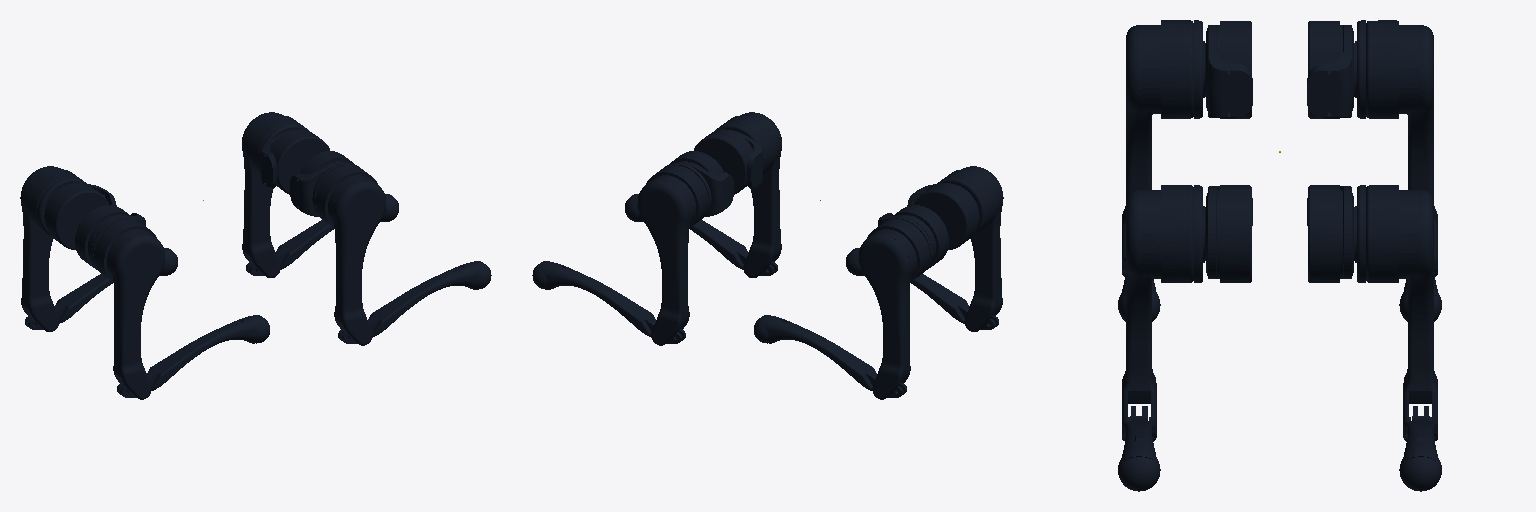
The robot description file, URDF, robot "a1_description":
<?xml version="1.0" ?>
<robot name="a1_description" xmlns:xacro="http://www.ros.org/wiki/xacro">
  <material name="black">
    <color rgba="0.0 0.0 0.0 1.0"/>
  </material>
  <material name="blue">
    <color rgba="0.0 0.0 0.8 1.0"/>
  </material>
  <material name="green">
    <color rgba="0.0 0.8 0.0 1.0"/>
  </material>
  <material name="grey">
    <color rgba="0.2 0.2 0.2 1.0"/>
  </material>
  <material name="silver">
    <color rgba="0.913725490196 0.913725490196 0.847058823529 1.0"/>
  </material>
  <material name="orange">
    <!-- <color rgba="1.0 0.423529411765 0.0392156862745 1.0"/> -->
    <color rgba="0.12 0.15 0.2 1.0"/>
  </material>
  <material name="brown">
    <color rgba="0.870588235294 0.811764705882 0.764705882353 1.0"/>
  </material>
  <material name="red">
    <color rgba="0.8 0.0 0.0 1.0"/>
  </material>
  <material name="white">
    <color rgba="1.0 1.0 1.0 1.0"/>
  </material>
  <link name="base">
    <visual>
      <origin rpy="0 0 0" xyz="0 0 0"/>
      <geometry>
        <box size="0.001 0.001 0.001"/>
      </geometry>
    </visual>
  </link>
  <joint name="floating_base" type="fixed">
    <origin rpy="0 0 0" xyz="0 0 0"/>
    <parent link="base"/>
    <child link="trunk"/>
  </joint>
  <link name="trunk">
    <visual>
      <origin rpy="0 0 0" xyz="0 0 0"/>
      <geometry>
        <mesh filename="../meshes/trunk.dae" scale="1 1 1"/>
      </geometry>
      <material name="orange"/>
    </visual>
    <collision>
      <origin rpy="0 0 0" xyz="0 0 0"/>
      <geometry>
        <box size="0.267 0.194 0.114"/>
      </geometry>
    </collision>
    <inertial>
      <origin rpy="0 0 0" xyz="0.012731 0.002186 0.000515"/>
      <mass value="4.713"/>
      <inertia ixx="0.01683993" ixy="8.3902e-05" ixz="0.000597679" iyy="0.056579028" iyz="2.5134e-05" izz="0.064713601"/>
    </inertial>
  </link>
  <joint name="imu_joint" type="fixed">
    <parent link="trunk"/>
    <child link="imu_link"/>
    <origin rpy="0 0 0" xyz="0 0 0"/>
  </joint>
  <link name="imu_link">
    <inertial>
      <mass value="0.001"/>
      <origin rpy="0 0 0" xyz="0 0 0"/>
      <inertia ixx="0.0001" ixy="0" ixz="0" iyy="0.0001" iyz="0" izz="0.0001"/>
    </inertial>
    <visual>
      <origin rpy="0 0 0" xyz="0 0 0"/>
      <geometry>
        <box size="0.001 0.001 0.001"/>
      </geometry>
      <material name="red"/>
    </visual>
    <!-- The collision box is for the sensor module in the front -->
    <collision>
      <origin rpy="0 0 0" xyz="0.25 0 0"/>
      <geometry>
        <box size=".06 .15 .1"/>
      </geometry>
    </collision>
  </link>
  <joint name="FR_hip_joint" type="revolute">
    <origin rpy="0 0 0" xyz="0.183 -0.047 0"/>
    <parent link="trunk"/>
    <child link="FR_hip"/>
    <axis xyz="1 0 0"/>
    <dynamics damping="0" friction="0"/>
    <limit effort="33.5" lower="-0.802851455917" upper="0.802851455917" velocity="52.4"/>
  </joint>
  <link name="FR_hip">
    <visual>
      <origin rpy="3.14159265359 0 0" xyz="0 0 0"/>
      <geometry>
        <mesh filename="../meshes/hip.dae" scale="1 1 1"/>
      </geometry>
      <material name="orange"/>
    </visual>
    <collision>
      <origin rpy="1.57079632679 0 0" xyz="0 0 0"/>
      <geometry>
        <cylinder length="0.04" radius="0.046"/>
      </geometry>
    </collision>
    <inertial>
      <origin rpy="0 0 0" xyz="-0.003311 -0.000635 3.1e-05"/>
      <mass value="0.696"/>
      <inertia ixx="0.000469246" ixy="9.409e-06" ixz="-3.42e-07" iyy="0.00080749" iyz="4.66e-07" izz="0.000552929"/>
    </inertial>
  </link>
  <joint name="FR_hip_fixed" type="fixed">
    <origin rpy="0 0 0" xyz="0 -0.081 0"/>
    <parent link="FR_hip"/>
    <child link="FR_thigh_shoulder"/>
  </joint>
  <!-- this link is only for collision -->
  <link name="FR_thigh_shoulder">
    <collision>
      <origin rpy="1.57079632679 0 0" xyz="0 0 0"/>
      <geometry>
        <cylinder length="0.032" radius="0.041"/>
      </geometry>
    </collision>
  </link>
  <joint name="FR_thigh_joint" type="revolute">
    <origin rpy="0 0 0" xyz="0 -0.08505 0"/>
    <parent link="FR_hip"/>
    <child link="FR_thigh"/>
    <axis xyz="0 1 0"/>
    <dynamics damping="0" friction="0"/>
    <limit effort="33.5" lower="-1.0471975512" upper="4.18879020479" velocity="28.6"/>
  </joint>
  <link name="FR_thigh">
    <visual>
      <origin rpy="0 0 0" xyz="0 0 0"/>
      <geometry>
        <mesh filename="../meshes/thigh_mirror.dae" scale="1 1 1"/>
      </geometry>
      <material name="orange"/>
    </visual>
    <collision>
      <origin rpy="0 1.57079632679 0" xyz="0 0 -0.1"/>
      <geometry>
        <box size="0.2 0.0245 0.034"/>
      </geometry>
    </collision>
    <inertial>
      <origin rpy="0 0 0" xyz="-0.003237 0.022327 -0.027326"/>
      <mass value="1.013"/>
      <inertia ixx="0.005529065" ixy="-4.825e-06" ixz="0.000343869" iyy="0.005139339" iyz="-2.2448e-05" izz="0.001367788"/>
    </inertial>
  </link>
  <joint name="FR_calf_joint" type="revolute">
    <origin rpy="0 0 0" xyz="0 0 -0.2"/>
    <parent link="FR_thigh"/>
    <child link="FR_calf"/>
    <axis xyz="0 1 0"/>
    <dynamics damping="0" friction="0"/>
    <limit effort="33.5" lower="-2.69653369433" upper="-0.916297857297" velocity="28.6"/>
  </joint>
  <link name="FR_calf">
    <visual>
      <origin rpy="0 0 0" xyz="0 0 0"/>
      <geometry>
        <mesh filename="../meshes/calf.dae" scale="1 1 1"/>
      </geometry>
      <material name="orange"/>
    </visual>
    <collision>
      <origin rpy="0 1.57079632679 0" xyz="0 0 -0.1"/>
      <geometry>
        <box size="0.2 0.016 0.016"/>
      </geometry>
    </collision>
    <inertial>
      <origin rpy="0 0 0" xyz="0.006435 0.0 -0.107388"/>
      <mass value="0.166"/>
      <inertia ixx="0.002997972" ixy="0.0" ixz="-0.000141163" iyy="0.003014022" iyz="0.0" izz="3.2426e-05"/>
    </inertial>
  </link>
  <joint name="FR_foot_fixed" type="fixed" dont_collapse="true">
    <origin rpy="0 0 0" xyz="0 0 -0.2"/>
    <parent link="FR_calf"/>
    <child link="FR_foot"/>
  </joint>
  <link name="FR_foot">
    <visual>
      <origin rpy="0 0 0" xyz="0 0 0"/>
      <geometry>
        <sphere radius="0.01"/>
      </geometry>
      <material name="orange"/>
    </visual>
    <collision>
      <origin rpy="0 0 0" xyz="0 0 0"/>
      <geometry>
        <sphere radius="0.02"/>
      </geometry>
    </collision>
    <inertial>
      <mass value="0.06"/>
      <inertia ixx="9.6e-06" ixy="0.0" ixz="0.0" iyy="9.6e-06" iyz="0.0" izz="9.6e-06"/>
    </inertial>
  </link>
  <joint name="FL_hip_joint" type="revolute">
    <origin rpy="0 0 0" xyz="0.183 0.047 0"/>
    <parent link="trunk"/>
    <child link="FL_hip"/>
    <axis xyz="1 0 0"/>
    <dynamics damping="0" friction="0"/>
    <limit effort="33.5" lower="-0.802851455917" upper="0.802851455917" velocity="52.4"/>
  </joint>
  <link name="FL_hip">
    <visual>
      <origin rpy="0 0 0" xyz="0 0 0"/>
      <geometry>
        <mesh filename="../meshes/hip.dae" scale="1 1 1"/>
      </geometry>
      <material name="orange"/>
    </visual>
    <collision>
      <origin rpy="1.57079632679 0 0" xyz="0 0 0"/>
      <geometry>
        <cylinder length="0.04" radius="0.046"/>
      </geometry>
    </collision>
    <inertial>
      <origin rpy="0 0 0" xyz="-0.003311 0.000635 3.1e-05"/>
      <mass value="0.696"/>
      <inertia ixx="0.000469246" ixy="-9.409e-06" ixz="-3.42e-07" iyy="0.00080749" iyz="-4.66e-07" izz="0.000552929"/>
    </inertial>
  </link>
  <joint name="FL_hip_fixed" type="fixed">
    <origin rpy="0 0 0" xyz="0 0.081 0"/>
    <parent link="FL_hip"/>
    <child link="FL_thigh_shoulder"/>
  </joint>
  <!-- this link is only for collision -->
  <link name="FL_thigh_shoulder">
    <collision>
      <origin rpy="1.57079632679 0 0" xyz="0 0 0"/>
      <geometry>
        <cylinder length="0.032" radius="0.041"/>
      </geometry>
    </collision>
  </link>
  <joint name="FL_thigh_joint" type="revolute">
    <origin rpy="0 0 0" xyz="0 0.08505 0"/>
    <parent link="FL_hip"/>
    <child link="FL_thigh"/>
    <axis xyz="0 1 0"/>
    <dynamics damping="0" friction="0"/>
    <limit effort="33.5" lower="-1.0471975512" upper="4.18879020479" velocity="28.6"/>
  </joint>
  <link name="FL_thigh">
    <visual>
      <origin rpy="0 0 0" xyz="0 0 0"/>
      <geometry>
        <mesh filename="../meshes/thigh.dae" scale="1 1 1"/>
      </geometry>
      <material name="orange"/>
    </visual>
    <collision>
      <origin rpy="0 1.57079632679 0" xyz="0 0 -0.1"/>
      <geometry>
        <box size="0.2 0.0245 0.034"/>
      </geometry>
    </collision>
    <inertial>
      <origin rpy="0 0 0" xyz="-0.003237 -0.022327 -0.027326"/>
      <mass value="1.013"/>
      <inertia ixx="0.005529065" ixy="4.825e-06" ixz="0.000343869" iyy="0.005139339" iyz="2.2448e-05" izz="0.001367788"/>
    </inertial>
  </link>
  <joint name="FL_calf_joint" type="revolute">
    <origin rpy="0 0 0" xyz="0 0 -0.2"/>
    <parent link="FL_thigh"/>
    <child link="FL_calf"/>
    <axis xyz="0 1 0"/>
    <dynamics damping="0" friction="0"/>
    <limit effort="33.5" lower="-2.69653369433" upper="-0.916297857297" velocity="28.6"/>
  </joint>
  <link name="FL_calf">
    <visual>
      <origin rpy="0 0 0" xyz="0 0 0"/>
      <geometry>
        <mesh filename="../meshes/calf.dae" scale="1 1 1"/>
      </geometry>
      <material name="orange"/>
    </visual>
    <collision>
      <origin rpy="0 1.57079632679 0" xyz="0 0 -0.1"/>
      <geometry>
        <box size="0.2 0.016 0.016"/>
      </geometry>
    </collision>
    <inertial>
      <origin rpy="0 0 0" xyz="0.006435 0.0 -0.107388"/>
      <mass value="0.166"/>
      <inertia ixx="0.002997972" ixy="0.0" ixz="-0.000141163" iyy="0.003014022" iyz="0.0" izz="3.2426e-05"/>
    </inertial>
  </link>
  <joint name="FL_foot_fixed" type="fixed" dont_collapse="true">
    <origin rpy="0 0 0" xyz="0 0 -0.2"/>
    <parent link="FL_calf"/>
    <child link="FL_foot"/>
  </joint>
  <link name="FL_foot">
    <visual>
      <origin rpy="0 0 0" xyz="0 0 0"/>
      <geometry>
        <sphere radius="0.01"/>
      </geometry>
      <material name="orange"/>
    </visual>
    <collision>
      <origin rpy="0 0 0" xyz="0 0 0"/>
      <geometry>
        <sphere radius="0.02"/>
      </geometry>
    </collision>
    <inertial>
      <mass value="0.06"/>
      <inertia ixx="9.6e-06" ixy="0.0" ixz="0.0" iyy="9.6e-06" iyz="0.0" izz="9.6e-06"/>
    </inertial>
  </link>
  <joint name="RR_hip_joint" type="revolute">
    <origin rpy="0 0 0" xyz="-0.183 -0.047 0"/>
    <parent link="trunk"/>
    <child link="RR_hip"/>
    <axis xyz="1 0 0"/>
    <dynamics damping="0" friction="0"/>
    <limit effort="33.5" lower="-0.802851455917" upper="0.802851455917" velocity="52.4"/>
  </joint>
  <link name="RR_hip">
    <visual>
      <origin rpy="3.14159265359 3.14159265359 0" xyz="0 0 0"/>
      <geometry>
        <mesh filename="../meshes/hip.dae" scale="1 1 1"/>
      </geometry>
      <material name="orange"/>
    </visual>
    <collision>
      <origin rpy="1.57079632679 0 0" xyz="0 0 0"/>
      <geometry>
        <cylinder length="0.04" radius="0.046"/>
      </geometry>
    </collision>
    <inertial>
      <origin rpy="0 0 0" xyz="0.003311 -0.000635 3.1e-05"/>
      <mass value="0.696"/>
      <inertia ixx="0.000469246" ixy="-9.409e-06" ixz="3.42e-07" iyy="0.00080749" iyz="4.66e-07" izz="0.000552929"/>
    </inertial>
  </link>
  <joint name="RR_hip_fixed" type="fixed">
    <origin rpy="0 0 0" xyz="0 -0.081 0"/>
    <parent link="RR_hip"/>
    <child link="RR_thigh_shoulder"/>
  </joint>
  <!-- this link is only for collision -->
  <link name="RR_thigh_shoulder">
    <collision>
      <origin rpy="1.57079632679 0 0" xyz="0 0 0"/>
      <geometry>
        <cylinder length="0.032" radius="0.041"/>
      </geometry>
    </collision>
  </link>
  <joint name="RR_thigh_joint" type="revolute">
    <origin rpy="0 0 0" xyz="0 -0.08505 0"/>
    <parent link="RR_hip"/>
    <child link="RR_thigh"/>
    <axis xyz="0 1 0"/>
    <dynamics damping="0" friction="0"/>
    <limit effort="33.5" lower="-1.0471975512" upper="4.18879020479" velocity="28.6"/>
  </joint>
  <link name="RR_thigh">
    <visual>
      <origin rpy="0 0 0" xyz="0 0 0"/>
      <geometry>
        <mesh filename="../meshes/thigh_mirror.dae" scale="1 1 1"/>
      </geometry>
      <material name="orange"/>
    </visual>
    <collision>
      <origin rpy="0 1.57079632679 0" xyz="0 0 -0.1"/>
      <geometry>
        <box size="0.2 0.0245 0.034"/>
      </geometry>
    </collision>
    <inertial>
      <origin rpy="0 0 0" xyz="-0.003237 0.022327 -0.027326"/>
      <mass value="1.013"/>
      <inertia ixx="0.005529065" ixy="-4.825e-06" ixz="0.000343869" iyy="0.005139339" iyz="-2.2448e-05" izz="0.001367788"/>
    </inertial>
  </link>
  <joint name="RR_calf_joint" type="revolute">
    <origin rpy="0 0 0" xyz="0 0 -0.2"/>
    <parent link="RR_thigh"/>
    <child link="RR_calf"/>
    <axis xyz="0 1 0"/>
    <dynamics damping="0" friction="0"/>
    <limit effort="33.5" lower="-2.69653369433" upper="-0.916297857297" velocity="28.6"/>
  </joint>
  <link name="RR_calf">
    <visual>
      <origin rpy="0 0 0" xyz="0 0 0"/>
      <geometry>
        <mesh filename="../meshes/calf.dae" scale="1 1 1"/>
      </geometry>
      <material name="orange"/>
    </visual>
    <collision>
      <origin rpy="0 1.57079632679 0" xyz="0 0 -0.1"/>
      <geometry>
        <box size="0.2 0.016 0.016"/>
      </geometry>
    </collision>
    <inertial>
      <origin rpy="0 0 0" xyz="0.006435 0.0 -0.107388"/>
      <mass value="0.166"/>
      <inertia ixx="0.002997972" ixy="0.0" ixz="-0.000141163" iyy="0.003014022" iyz="0.0" izz="3.2426e-05"/>
    </inertial>
  </link>
  <joint name="RR_foot_fixed" type="fixed" dont_collapse="true">
    <origin rpy="0 0 0" xyz="0 0 -0.2"/>
    <parent link="RR_calf"/>
    <child link="RR_foot"/>
  </joint>
  <link name="RR_foot">
    <visual>
      <origin rpy="0 0 0" xyz="0 0 0"/>
      <geometry>
        <sphere radius="0.01"/>
      </geometry>
      <material name="orange"/>
    </visual>
    <collision>
      <origin rpy="0 0 0" xyz="0 0 0"/>
      <geometry>
        <sphere radius="0.02"/>
      </geometry>
    </collision>
    <inertial>
      <mass value="0.06"/>
      <inertia ixx="9.6e-06" ixy="0.0" ixz="0.0" iyy="9.6e-06" iyz="0.0" izz="9.6e-06"/>
    </inertial>
  </link>
  <joint name="RL_hip_joint" type="revolute">
    <origin rpy="0 0 0" xyz="-0.183 0.047 0"/>
    <parent link="trunk"/>
    <child link="RL_hip"/>
    <axis xyz="1 0 0"/>
    <dynamics damping="0" friction="0"/>
    <limit effort="33.5" lower="-0.802851455917" upper="0.802851455917" velocity="52.4"/>
  </joint>
  <link name="RL_hip">
    <visual>
      <origin rpy="0 3.14159265359 0" xyz="0 0 0"/>
      <geometry>
        <mesh filename="../meshes/hip.dae" scale="1 1 1"/>
      </geometry>
      <material name="orange"/>
    </visual>
    <collision>
      <origin rpy="1.57079632679 0 0" xyz="0 0 0"/>
      <geometry>
        <cylinder length="0.04" radius="0.046"/>
      </geometry>
    </collision>
    <inertial>
      <origin rpy="0 0 0" xyz="0.003311 0.000635 3.1e-05"/>
      <mass value="0.696"/>
      <inertia ixx="0.000469246" ixy="9.409e-06" ixz="3.42e-07" iyy="0.00080749" iyz="-4.66e-07" izz="0.000552929"/>
    </inertial>
  </link>
  <joint name="RL_hip_fixed" type="fixed">
    <origin rpy="0 0 0" xyz="0 0.081 0"/>
    <parent link="RL_hip"/>
    <child link="RL_thigh_shoulder"/>
  </joint>
  <!-- this link is only for collision -->
  <link name="RL_thigh_shoulder">
    <collision>
      <origin rpy="1.57079632679 0 0" xyz="0 0 0"/>
      <geometry>
        <cylinder length="0.032" radius="0.041"/>
      </geometry>
    </collision>
  </link>
  <joint name="RL_thigh_joint" type="revolute">
    <origin rpy="0 0 0" xyz="0 0.08505 0"/>
    <parent link="RL_hip"/>
    <child link="RL_thigh"/>
    <axis xyz="0 1 0"/>
    <dynamics damping="0" friction="0"/>
    <limit effort="33.5" lower="-1.0471975512" upper="4.18879020479" velocity="28.6"/>
  </joint>
  <link name="RL_thigh">
    <visual>
      <origin rpy="0 0 0" xyz="0 0 0"/>
      <geometry>
        <mesh filename="../meshes/thigh.dae" scale="1 1 1"/>
      </geometry>
      <material name="orange"/>
    </visual>
    <collision>
      <origin rpy="0 1.57079632679 0" xyz="0 0 -0.1"/>
      <geometry>
        <box size="0.2 0.0245 0.034"/>
      </geometry>
    </collision>
    <inertial>
      <origin rpy="0 0 0" xyz="-0.003237 -0.022327 -0.027326"/>
      <mass value="1.013"/>
      <inertia ixx="0.005529065" ixy="4.825e-06" ixz="0.000343869" iyy="0.005139339" iyz="2.2448e-05" izz="0.001367788"/>
    </inertial>
  </link>
  <joint name="RL_calf_joint" type="revolute">
    <origin rpy="0 0 0" xyz="0 0 -0.2"/>
    <parent link="RL_thigh"/>
    <child link="RL_calf"/>
    <axis xyz="0 1 0"/>
    <dynamics damping="0" friction="0"/>
    <limit effort="33.5" lower="-2.69653369433" upper="-0.916297857297" velocity="28.6"/>
  </joint>
  <link name="RL_calf">
    <visual>
      <origin rpy="0 0 0" xyz="0 0 0"/>
      <geometry>
        <mesh filename="../meshes/calf.dae" scale="1 1 1"/>
      </geometry>
      <material name="orange"/>
    </visual>
    <collision>
      <origin rpy="0 1.57079632679 0" xyz="0 0 -0.1"/>
      <geometry>
        <box size="0.2 0.016 0.016"/>
      </geometry>
    </collision>
    <inertial>
      <origin rpy="0 0 0" xyz="0.006435 0.0 -0.107388"/>
      <mass value="0.166"/>
      <inertia ixx="0.002997972" ixy="0.0" ixz="-0.000141163" iyy="0.003014022" iyz="0.0" izz="3.2426e-05"/>
    </inertial>
  </link>
  <joint name="RL_foot_fixed" type="fixed" dont_collapse="true">
    <origin rpy="0 0 0" xyz="0 0 -0.2"/>
    <parent link="RL_calf"/>
    <child link="RL_foot"/>
  </joint>
  <link name="RL_foot">
    <visual>
      <origin rpy="0 0 0" xyz="0 0 0"/>
      <geometry>
        <sphere radius="0.01"/>
      </geometry>
      <material name="orange"/>
    </visual>
    <collision>
      <origin rpy="0 0 0" xyz="0 0 0"/>
      <geometry>
        <sphere radius="0.02"/>
      </geometry>
    </collision>
    <inertial>
      <mass value="0.06"/>
      <inertia ixx="9.6e-06" ixy="0.0" ixz="0.0" iyy="9.6e-06" iyz="0.0" izz="9.6e-06"/>
    </inertial>
  </link>
</robot>

--- What the picture shows (computed from the rendered views, not written in the file) ---
Views: 3 orthographic renders of the robot side by side, from view 1: azimuth 30°, elevation 25°; view 2: azimuth 150°, elevation 25°; view 3: azimuth 270°, elevation 25°.
Model a1_description with 23 links and 22 joints (12 revolute, 10 fixed), rooted at base, posed joints at zero except 4 at the middle of their limits (FR_calf_joint = -1.81, FL_calf_joint = -1.81, RR_calf_joint = -1.81, RL_calf_joint = -1.81).
Links seen in each view (by area): view 1: RR_thigh, FR_thigh, RL_thigh, FL_thigh, FR_calf, RR_calf, FL_hip, RL_hip, FR_hip, FL_calf, RL_calf, RR_hip; view 2: RL_thigh, FL_thigh, RR_thigh, FR_thigh, FL_calf, RL_calf, FR_hip, RR_hip, FL_hip, FR_calf, RR_calf, RL_hip; view 3: FR_thigh, FL_thigh, RR_thigh, RL_thigh, FR_hip, FL_hip, RR_hip, RL_hip, FR_calf, FL_calf, RL_calf, RR_calf.
Link boxes in pixels (x1=…): RR_thigh: x1=91, y1=217, x2=164, y2=399; FR_thigh: x1=312, y1=163, x2=385, y2=345; RL_thigh: x1=20, y1=166, x2=86, y2=331; FL_thigh: x1=242, y1=112, x2=308, y2=277; FR_calf: x1=338, y1=261, x2=491, y2=343; RR_calf: x1=117, y1=315, x2=269, y2=397; FL_hip: x1=261, y1=129, x2=329, y2=194; RL_hip: x1=44, y1=183, x2=116, y2=249; FR_hip: x1=290, y1=151, x2=353, y2=216; FL_calf: x1=246, y1=194, x2=398, y2=275; RL_calf: x1=25, y1=248, x2=177, y2=329; RR_hip: x1=75, y1=205, x2=145, y2=269; RL_thigh: x1=859, y1=217, x2=932, y2=399; FL_thigh: x1=638, y1=163, x2=711, y2=345; RR_thigh: x1=937, y1=166, x2=1003, y2=331; FR_thigh: x1=715, y1=112, x2=781, y2=277; FL_calf: x1=532, y1=261, x2=685, y2=343; RL_calf: x1=754, y1=315, x2=906, y2=397; FR_hip: x1=694, y1=129, x2=762, y2=194; RR_hip: x1=907, y1=183, x2=979, y2=249; FL_hip: x1=670, y1=151, x2=733, y2=216; FR_calf: x1=625, y1=194, x2=777, y2=275; RR_calf: x1=846, y1=248, x2=998, y2=329; RL_hip: x1=878, y1=205, x2=948, y2=269; FR_thigh: x1=1122, y1=185, x2=1204, y2=441; FL_thigh: x1=1355, y1=185, x2=1437, y2=441; RR_thigh: x1=1122, y1=20, x2=1204, y2=276; RL_thigh: x1=1355, y1=20, x2=1437, y2=276; FR_hip: x1=1205, y1=185, x2=1252, y2=282; FL_hip: x1=1307, y1=185, x2=1354, y2=282; RR_hip: x1=1205, y1=21, x2=1252, y2=118; RL_hip: x1=1307, y1=21, x2=1354, y2=118; FR_calf: x1=1118, y1=406, x2=1160, y2=491; FL_calf: x1=1399, y1=406, x2=1441, y2=491; RL_calf: x1=1399, y1=256, x2=1441, y2=321; RR_calf: x1=1118, y1=256, x2=1160, y2=321.
Bounding box of the posed robot: 0.6265 × 0.3041 × 0.2595 m (x, y, z).
12 mesh visuals loaded from 5 distinct referenced files (4 Collada DAE); not drawn: 1 (reference not matched to a file when rendering).